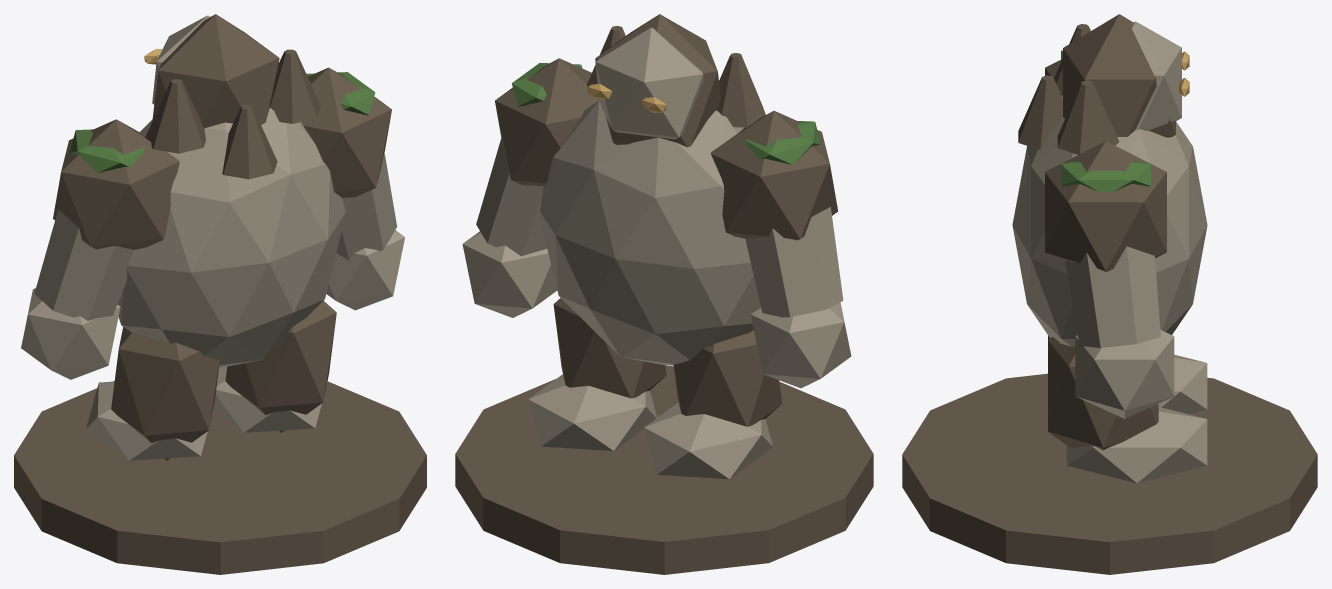
The model's file is WorldParty_Stonebeast.fbx.
3 views of the same model, side by side, from view 1: azimuth 30°, elevation 25°; view 2: azimuth 150°, elevation 25°; view 3: azimuth 270°, elevation 25° (orthographic).
Parts seen in each view (by area): view 1: WorldParty_Stonebeast; view 2: WorldParty_Stonebeast; view 3: WorldParty_Stonebeast.
Part boxes in pixels (x1,y1,x2,y2): WorldParty_Stonebeast: (14,14,426,574); WorldParty_Stonebeast: (455,14,873,574); WorldParty_Stonebeast: (902,14,1317,574).
Bounding box in the file's own units: 1.43 × 1.73 × 1.38.
